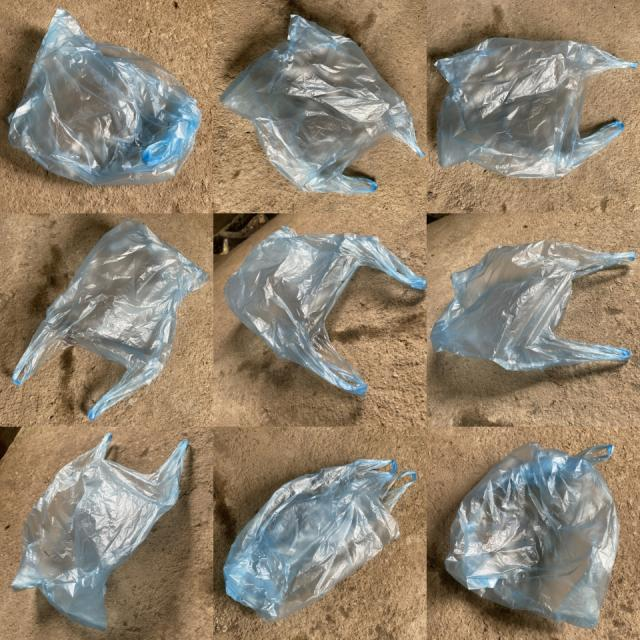Single-layer Plastic: (12, 220, 209, 419), (220, 15, 424, 193), (11, 432, 189, 629), (224, 225, 426, 396), (8, 9, 201, 185), (445, 442, 619, 629), (224, 459, 416, 621), (436, 38, 638, 178), (430, 241, 635, 371)
